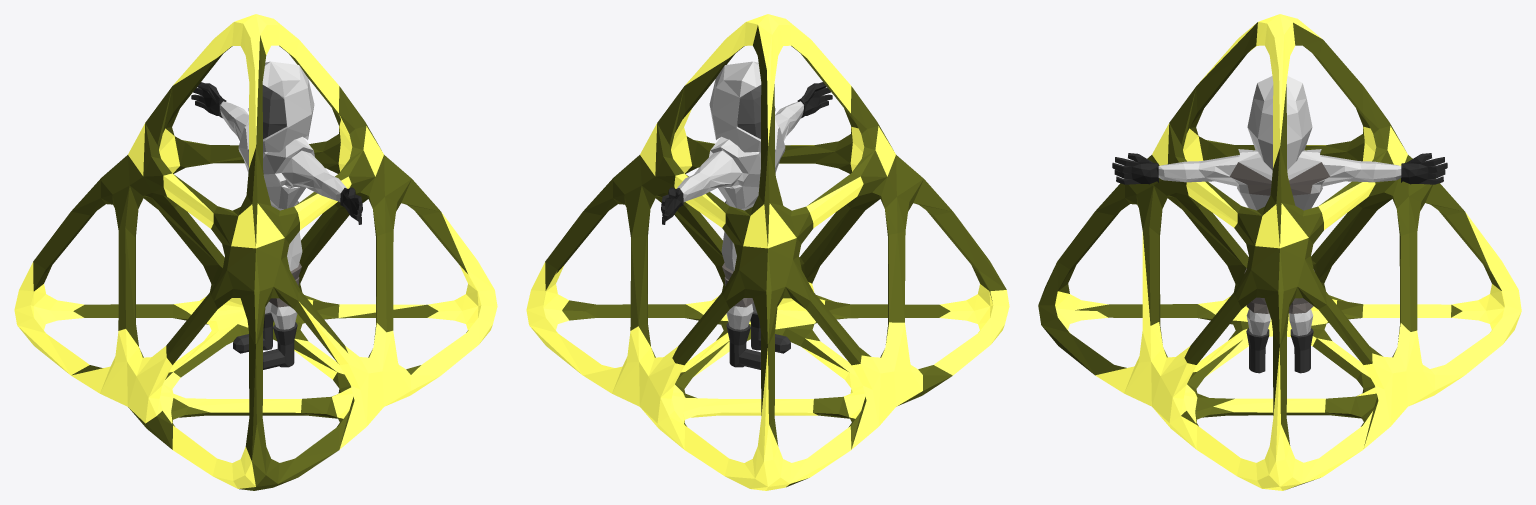
File: bat-net -fixed.fbx
The picture shows the model from 3 angles, left to right: view 1: azimuth 30°, elevation 25°; view 2: azimuth 150°, elevation 25°; view 3: azimuth 270°, elevation 25°; orthographic projection.
Visible parts, largest first — view 1: Solid, Cube.001; view 2: Solid, Cube.001; view 3: Solid, Cube.001.
Boxes of the visible parts, bbox=[...] form: Solid: bbox=[14, 14, 497, 490]; Cube.001: bbox=[191, 61, 362, 369]; Solid: bbox=[526, 14, 1009, 490]; Cube.001: bbox=[661, 61, 832, 369]; Solid: bbox=[1038, 14, 1521, 490]; Cube.001: bbox=[1112, 76, 1447, 373].
Bounding box in the file's own units: 1002 × 940 × 1121.
